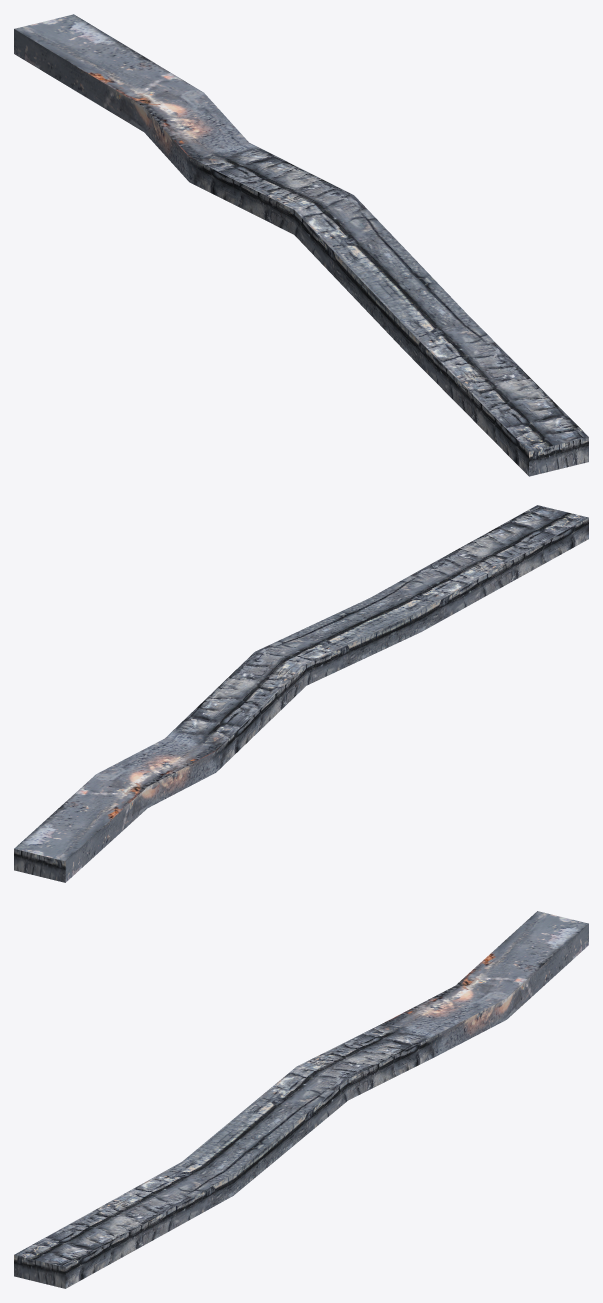
The model's file is burned_beam2.obj.
3 renders of one model, top to bottom at view 1: azimuth 30°, elevation 25°; view 2: azimuth 150°, elevation 25°; view 3: azimuth 330°, elevation 25°, orthographic. The views are drawn at different scales.
Visible parts, largest first — view 1: def_surf_mat; view 2: def_surf_mat; view 3: def_surf_mat.
Boxes of the visible parts, x1=… form: def_surf_mat: x1=14, y1=14, x2=588, y2=476; def_surf_mat: x1=14, y1=505, x2=588, y2=882; def_surf_mat: x1=14, y1=911, x2=588, y2=1288.
Bounding box in the file's own units: 22.52 × 8.53 × 177.
1 material, 1 textured.
